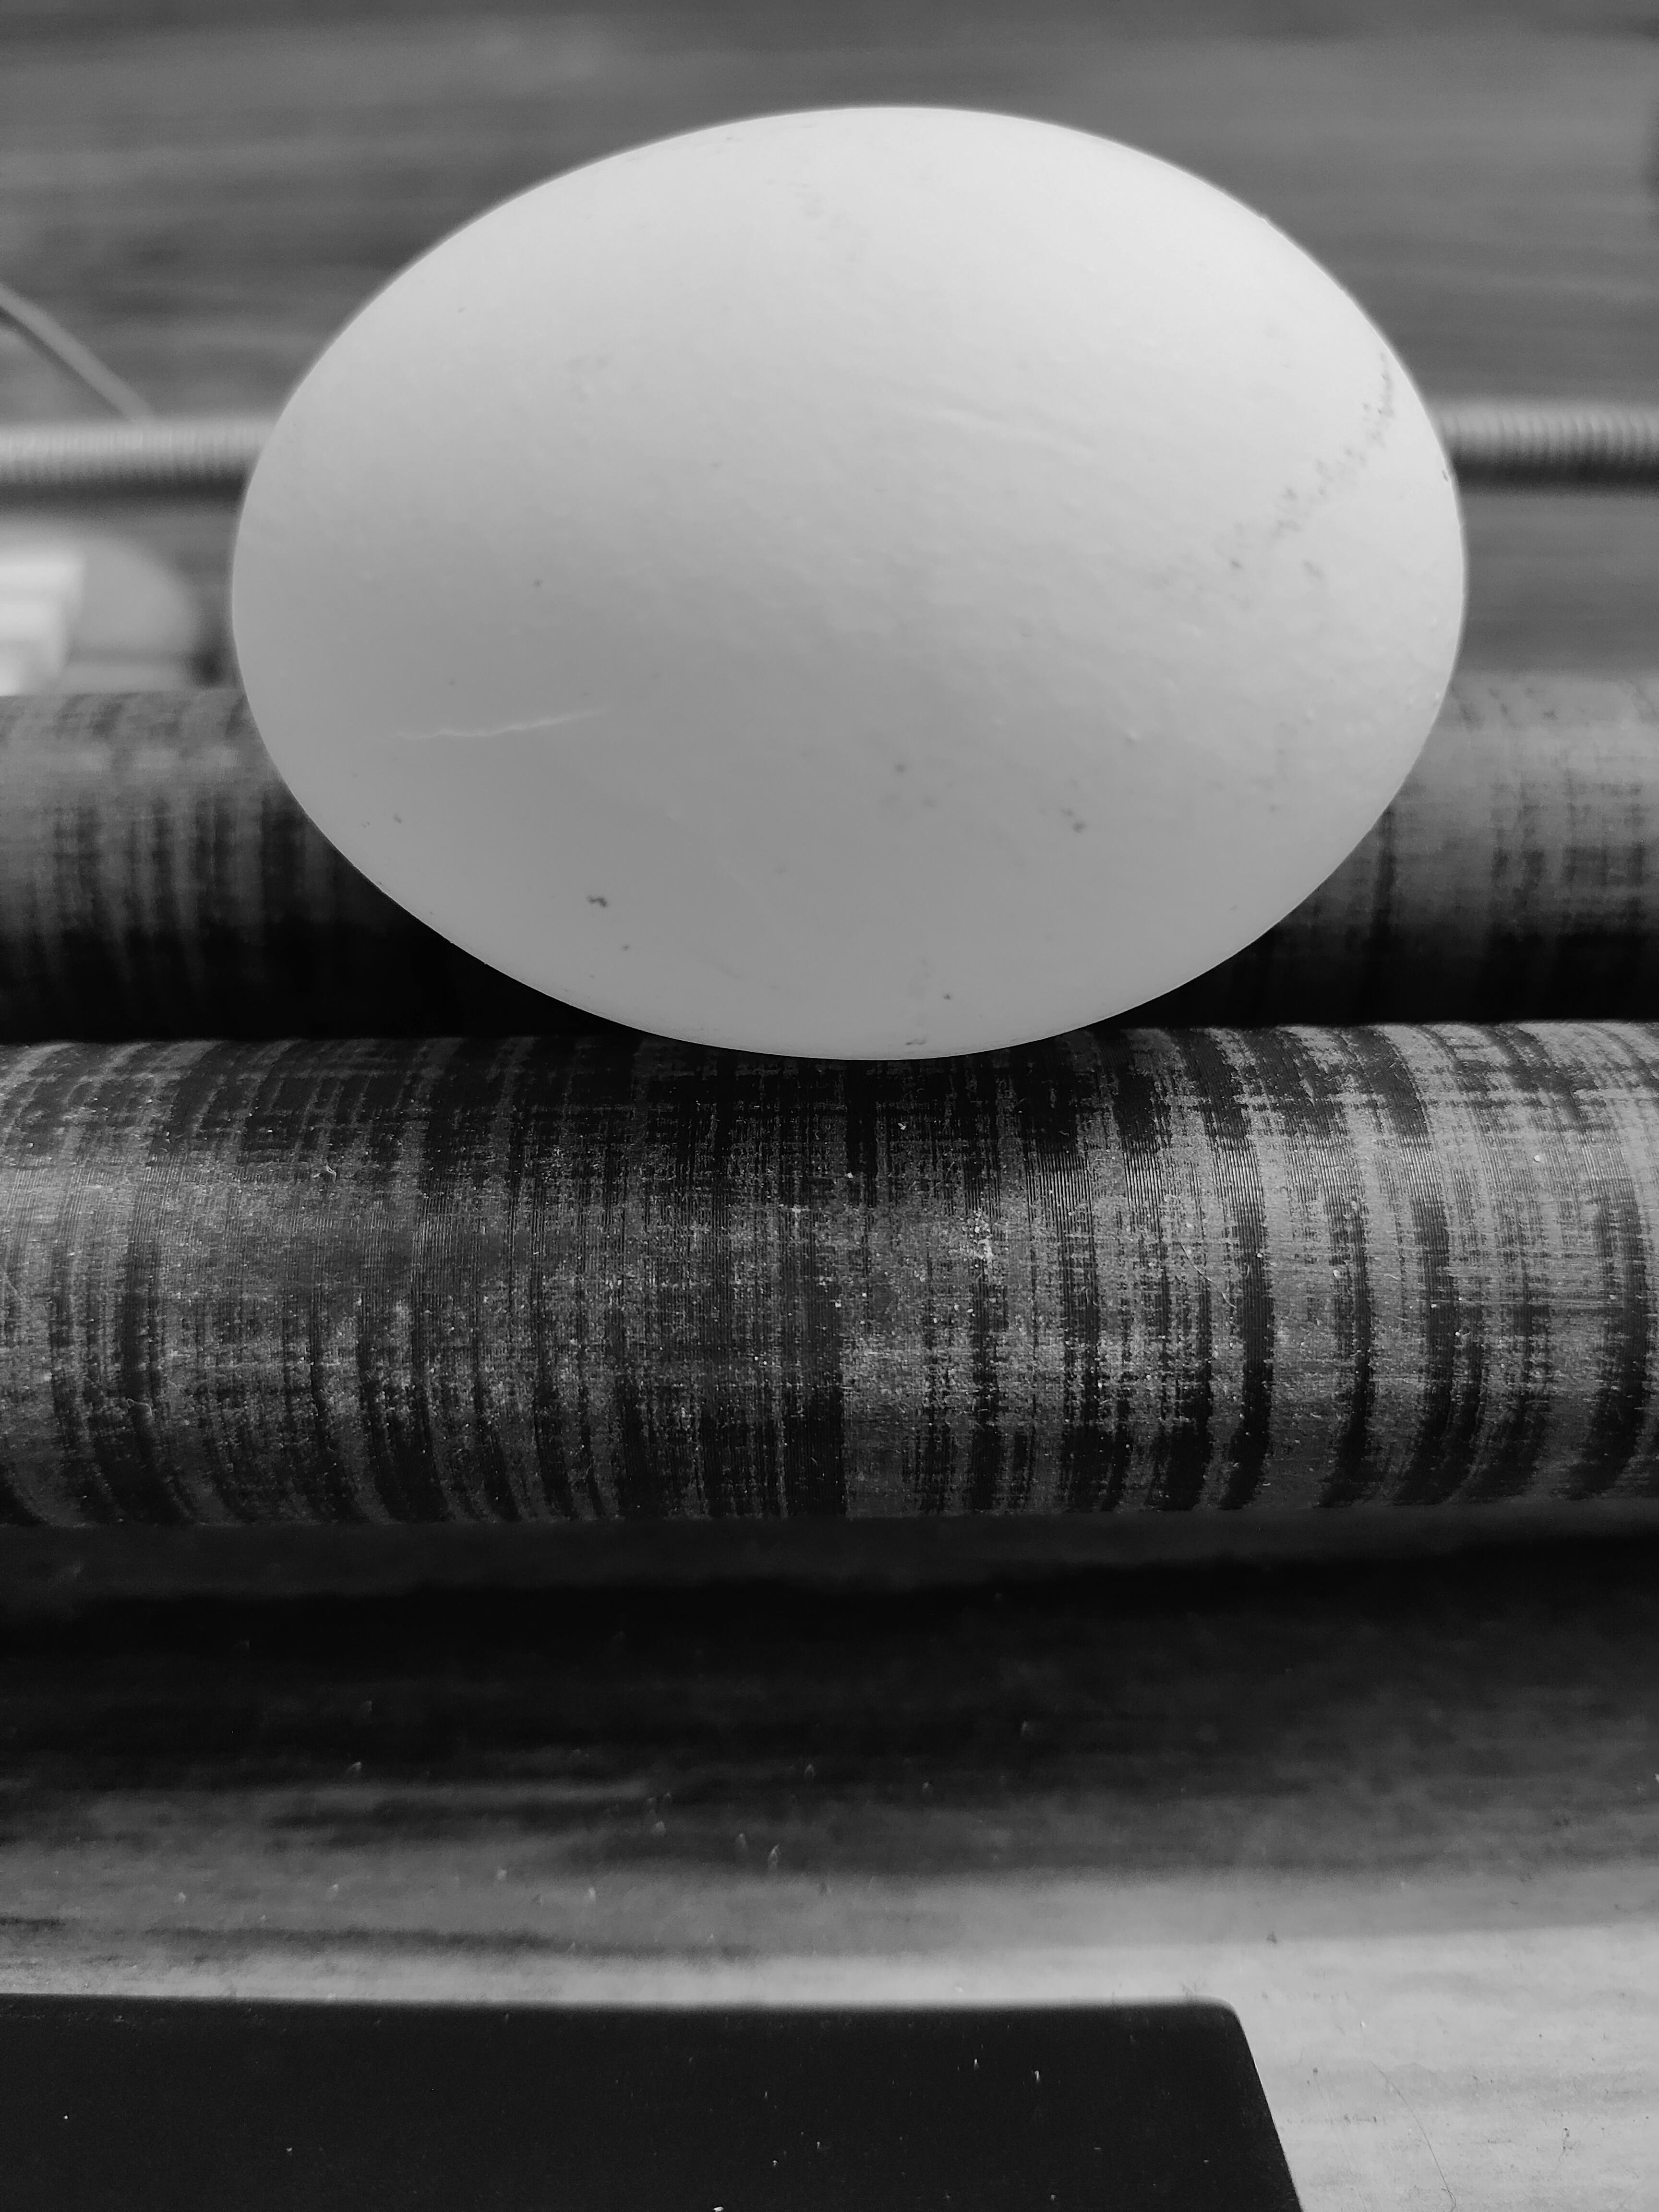telur: (202, 73, 1500, 1096)
